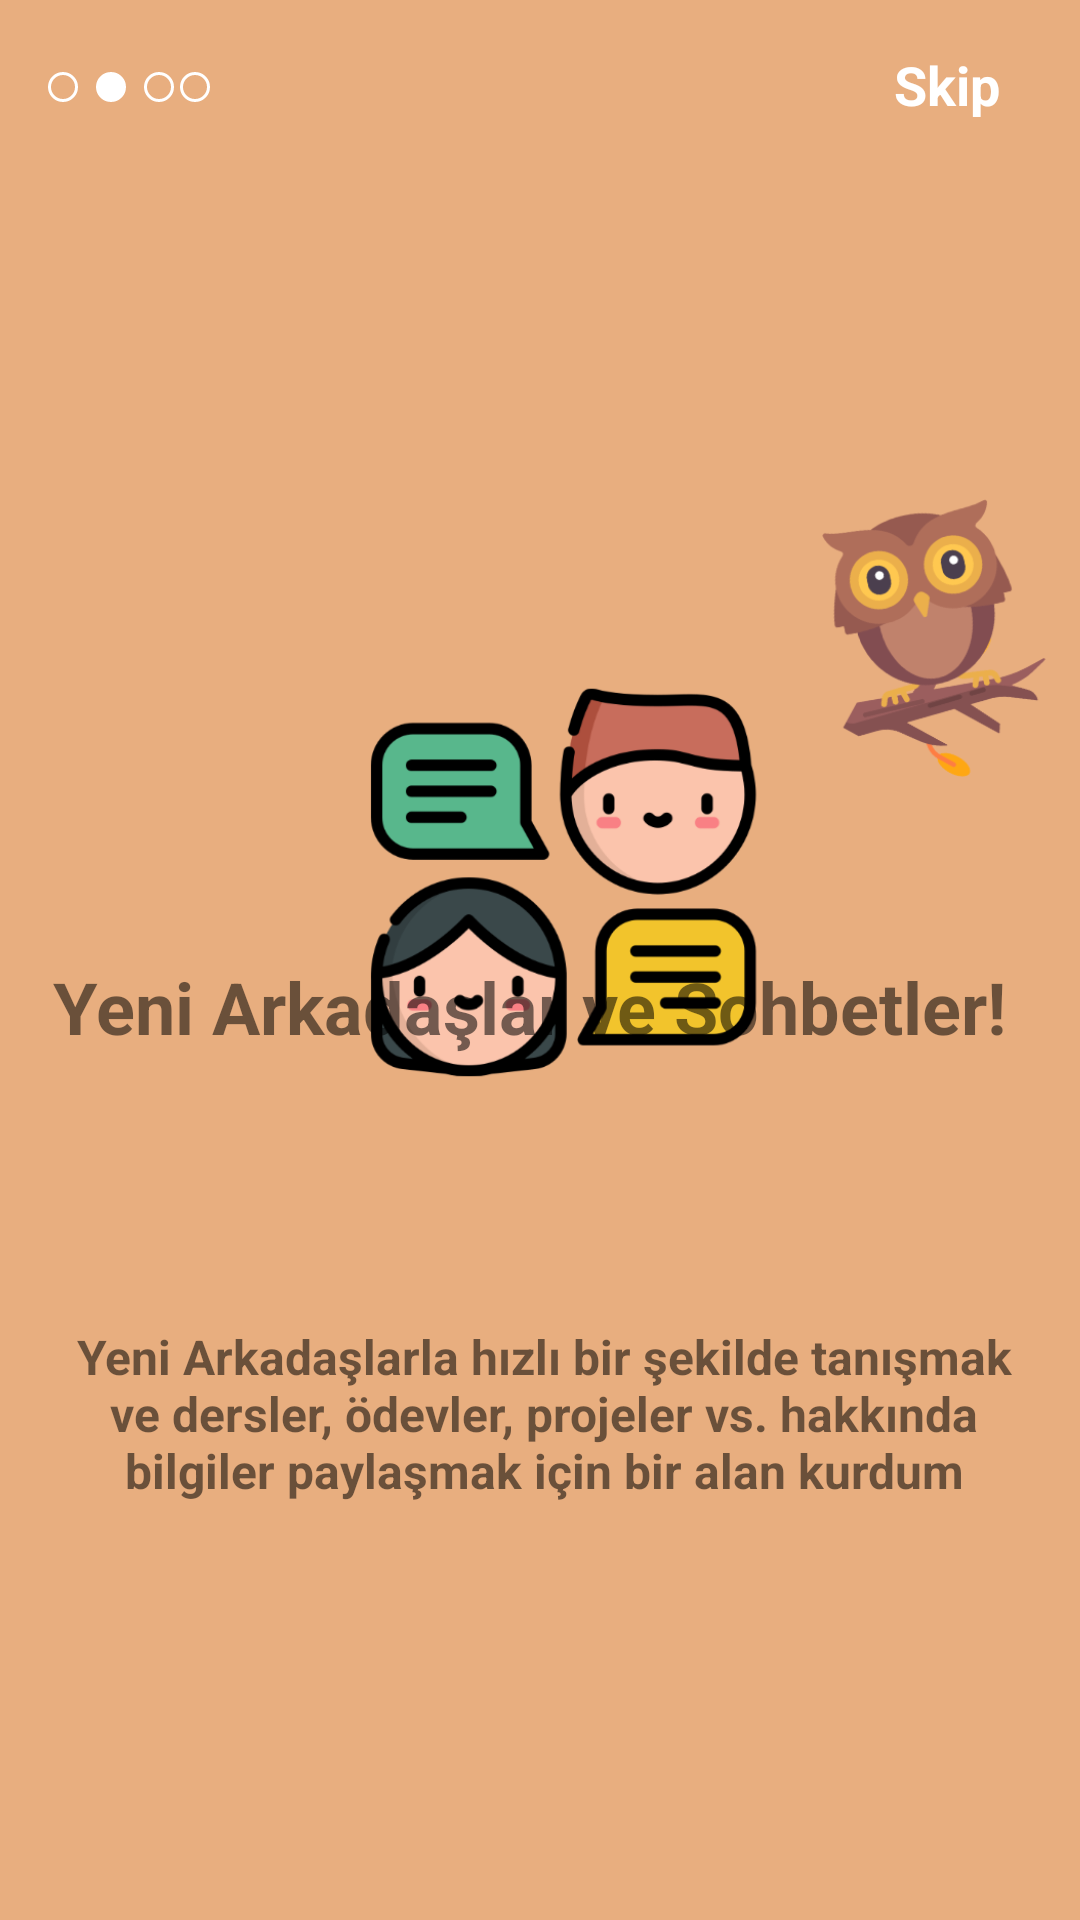

Where icons sit on this 1080 × 1920 app screen, as bbox=[x1, y1, x2, y2]:
circle: bbox=[48, 72, 78, 102], bbox=[96, 72, 126, 102], bbox=[144, 72, 174, 102], bbox=[180, 72, 210, 102]
